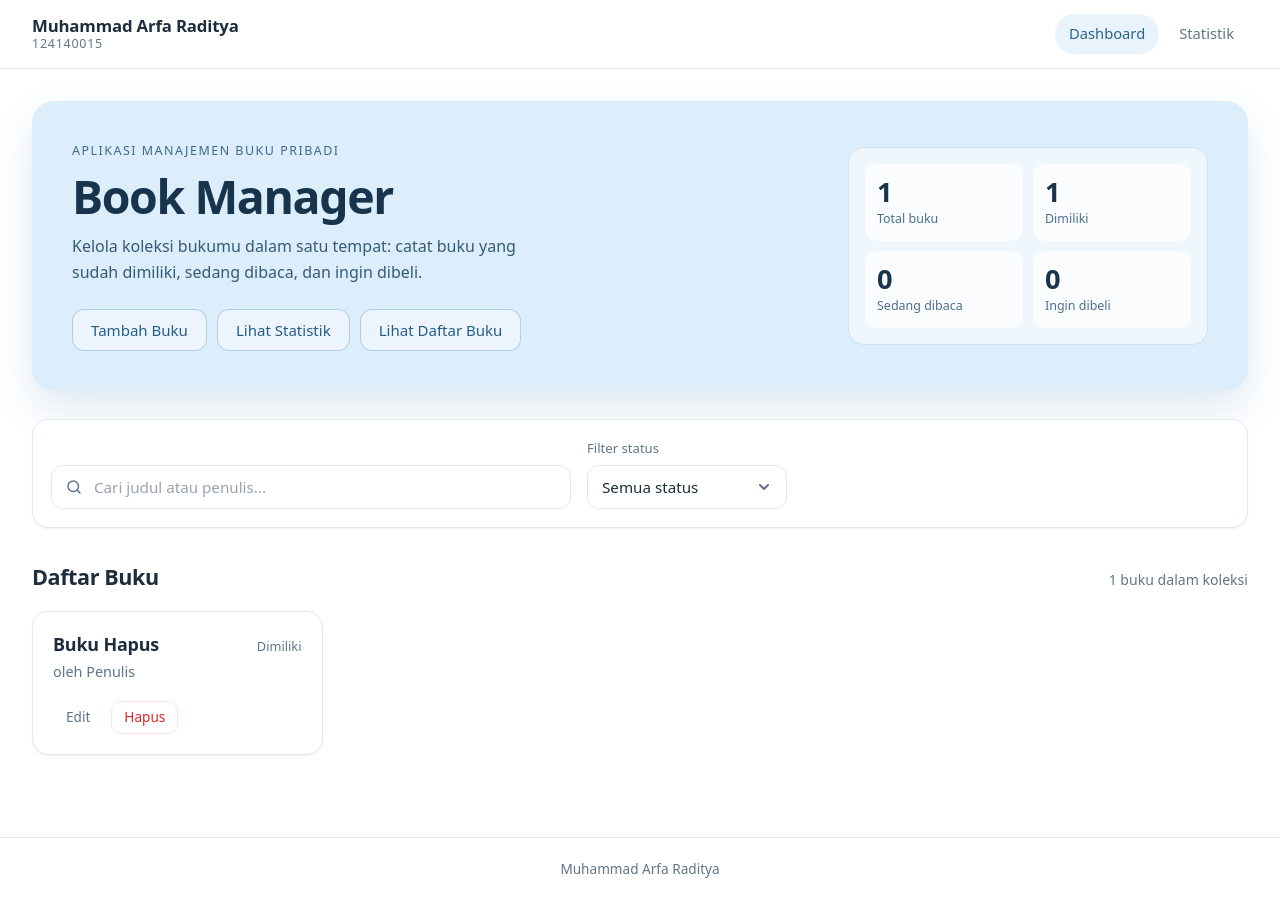
Scenario: Dashboard dan manajemen buku › menghapus buku hanya setelah pengguna mengonfirmasi
Step 1. Click the button with aria-label "Hapus buku Buku Hapus" → (145, 717), box [111, 701, 178, 734]
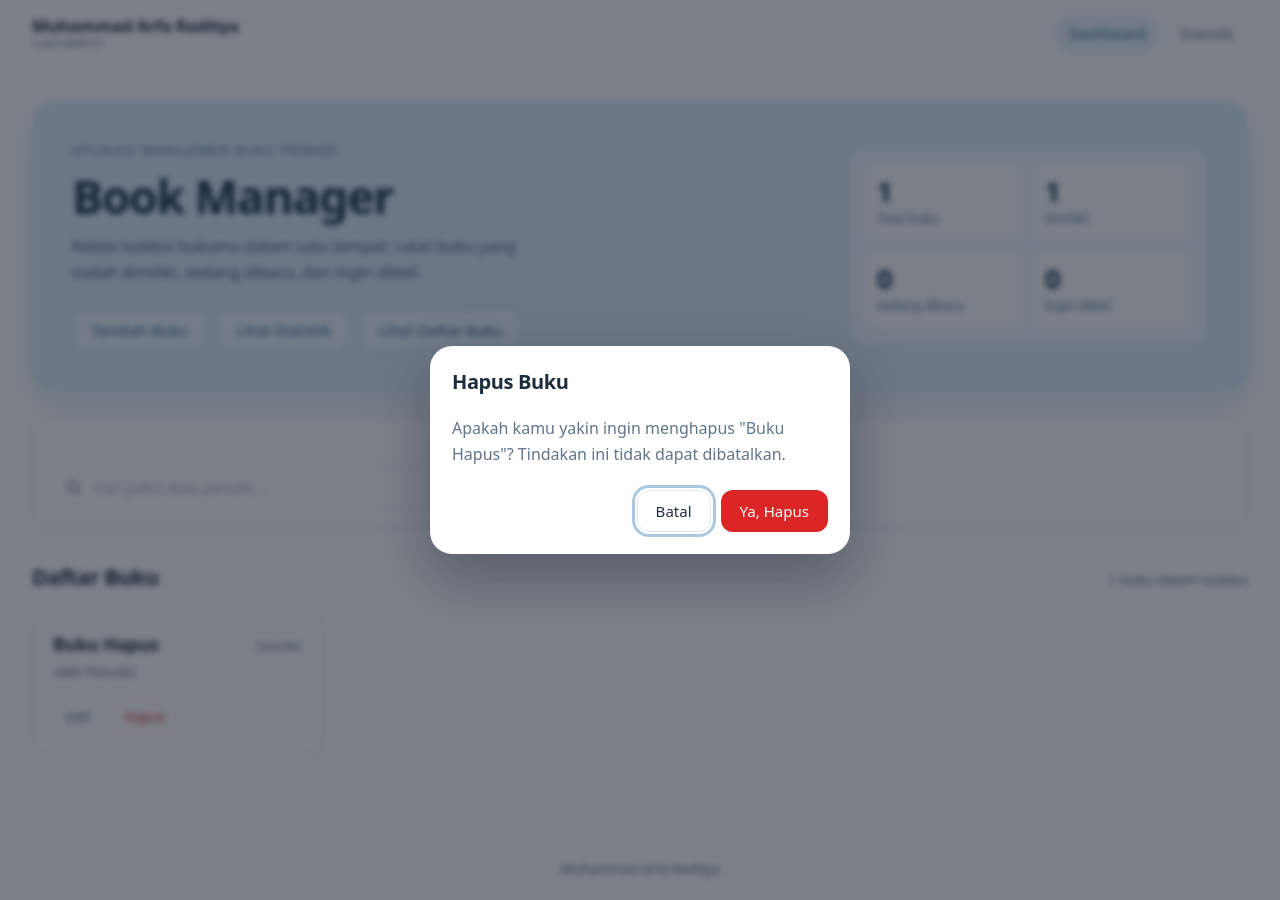
Result: the dialog is shown at [430, 346, 850, 554]
Step 2. Click the button "Batal" → (674, 511), box [637, 490, 711, 532]
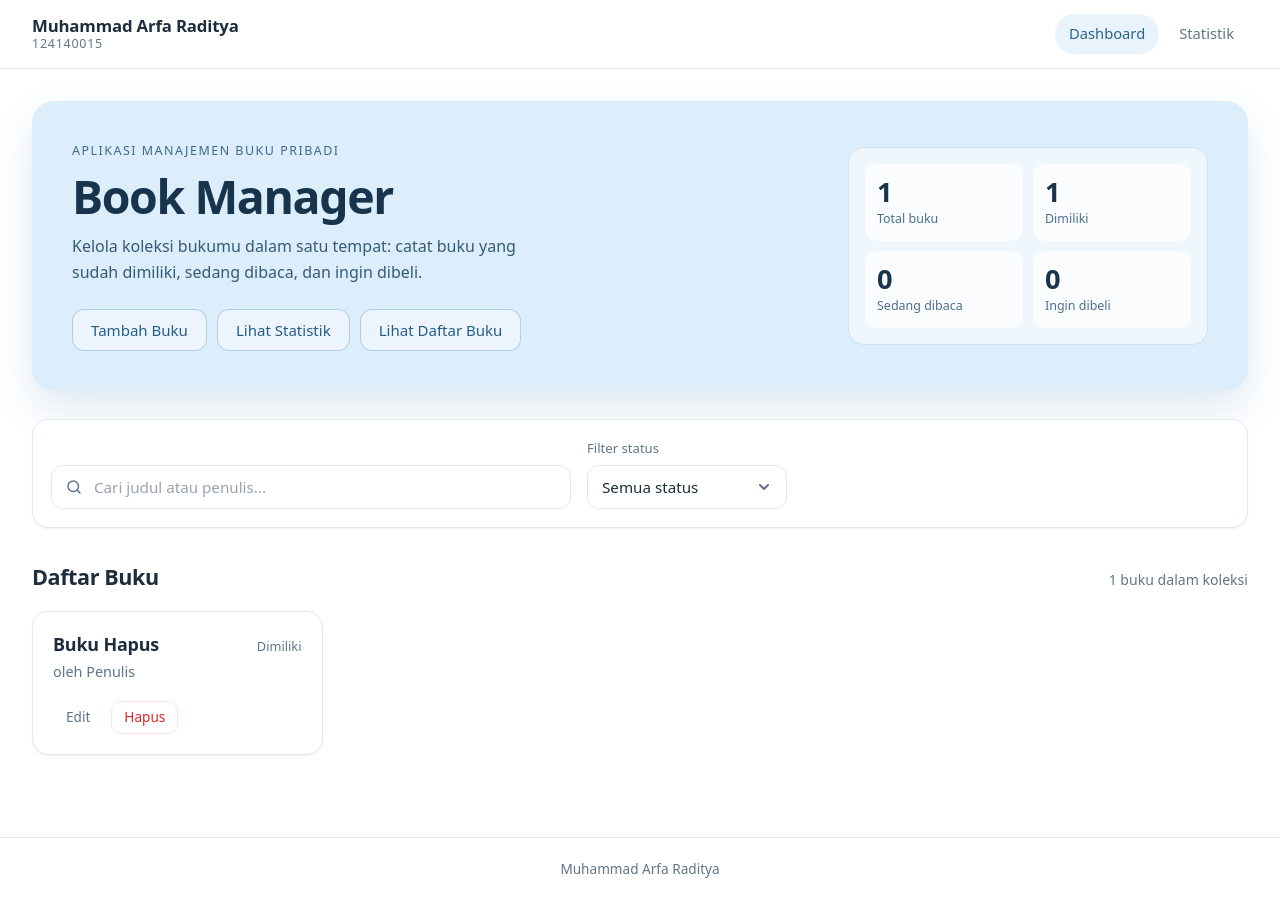
Expected: the heading "Buku Hapus" is shown, [53, 632, 159, 656]
Step 3. Click the button with aria-label "Hapus buku Buku Hapus" → (145, 717), box [111, 701, 178, 734]
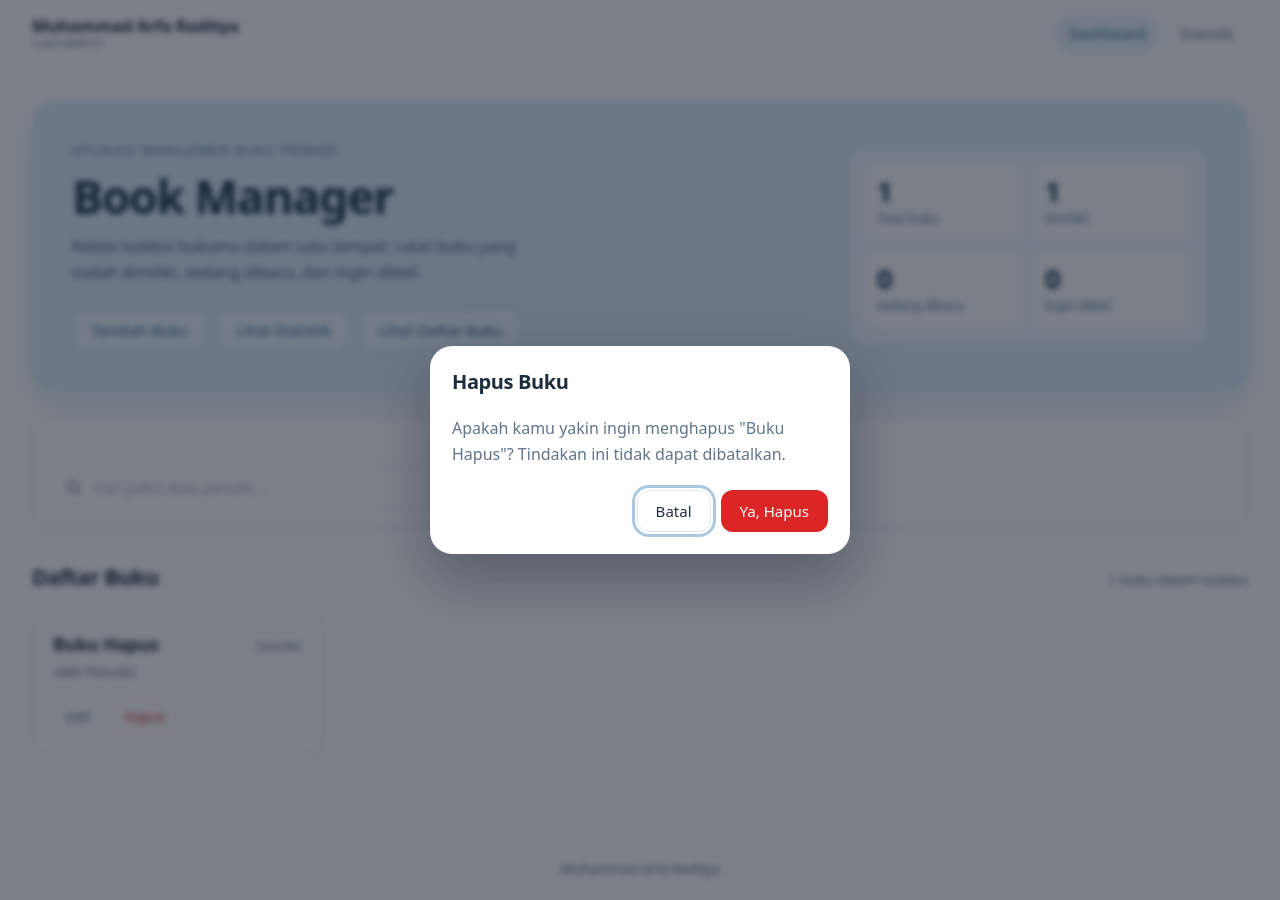
Step 4. Click the button "Ya, Hapus" → (774, 511), box [721, 490, 828, 532]
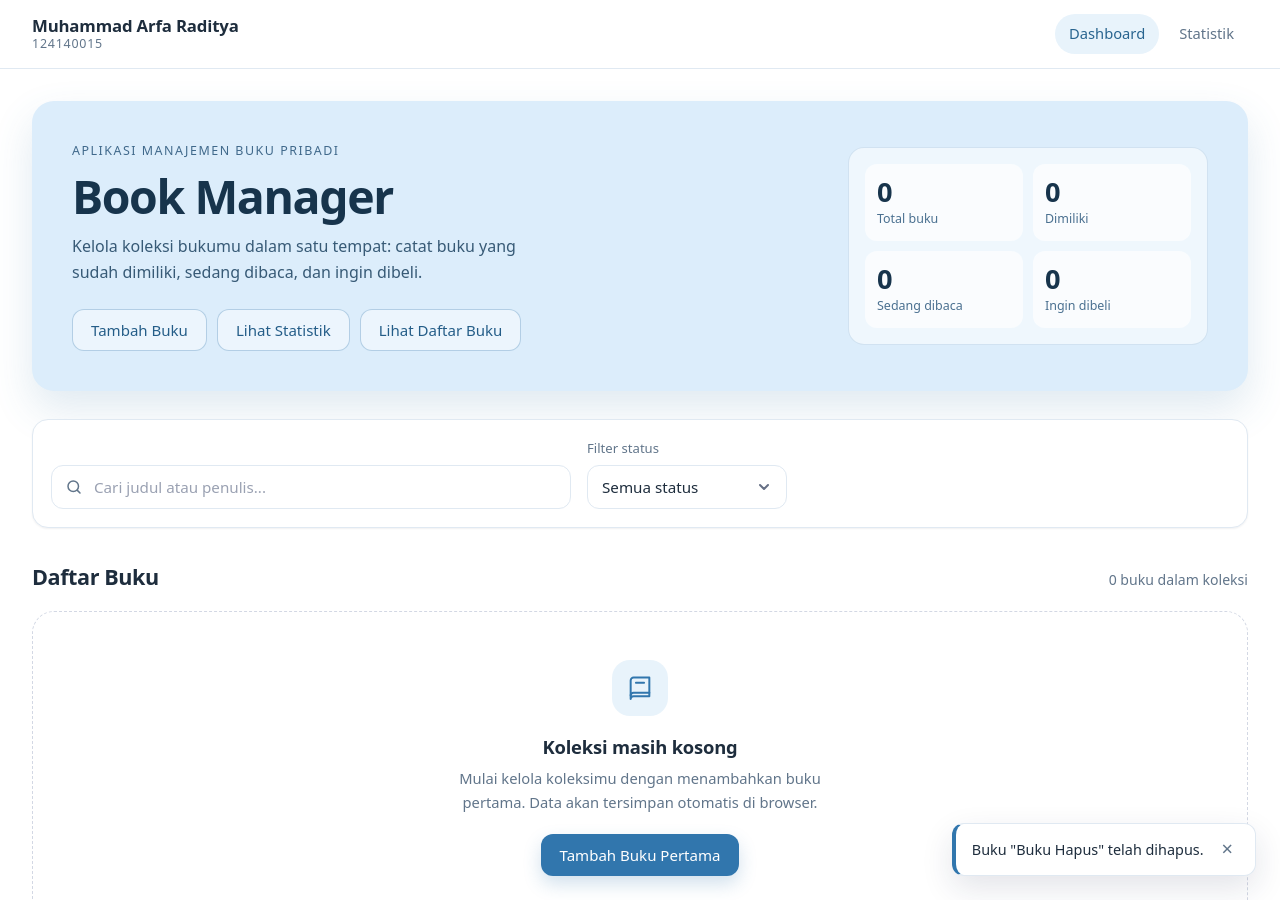
Result: the heading "Koleksi masih kosong" is shown at [542, 732, 738, 761]
